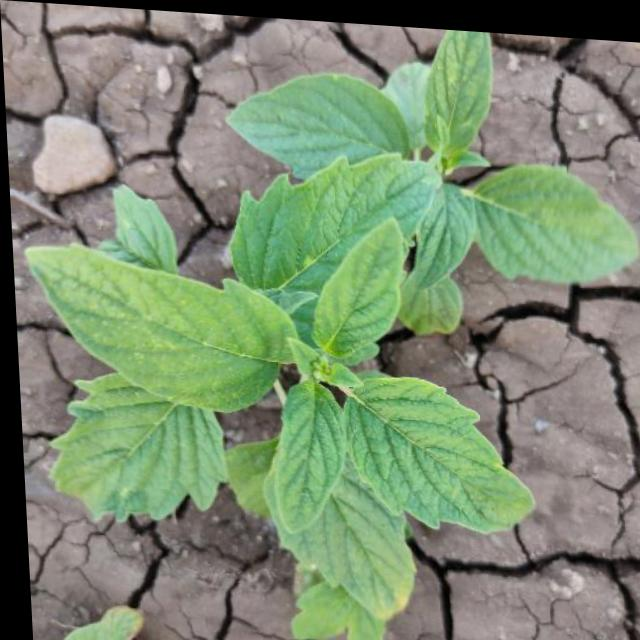crop: (38, 175, 564, 640), (198, 14, 640, 321)
